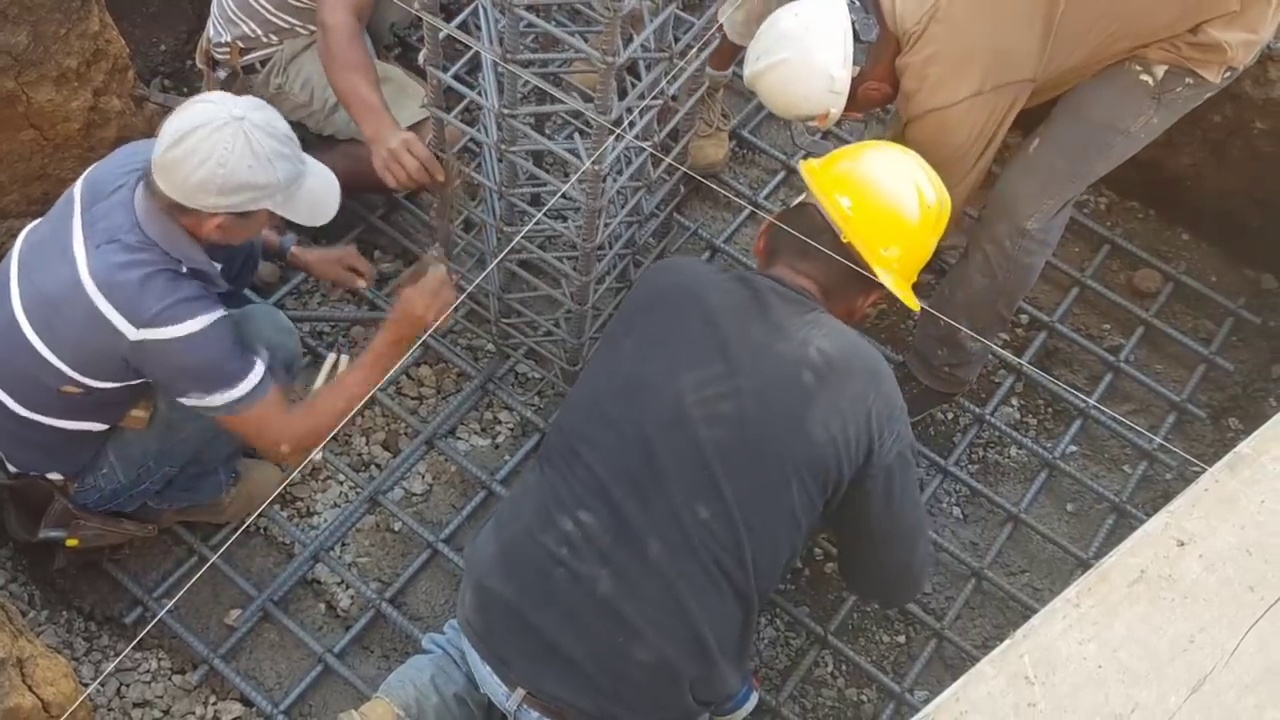helmet: (796, 143, 958, 312), (746, 0, 875, 121)
helmet-off: (134, 90, 345, 273)
helmet-on: (745, 142, 956, 326), (745, 0, 908, 127)
person: (337, 142, 963, 718), (746, 1, 1280, 410), (2, 89, 448, 564), (197, 0, 444, 188), (571, 0, 761, 177)
